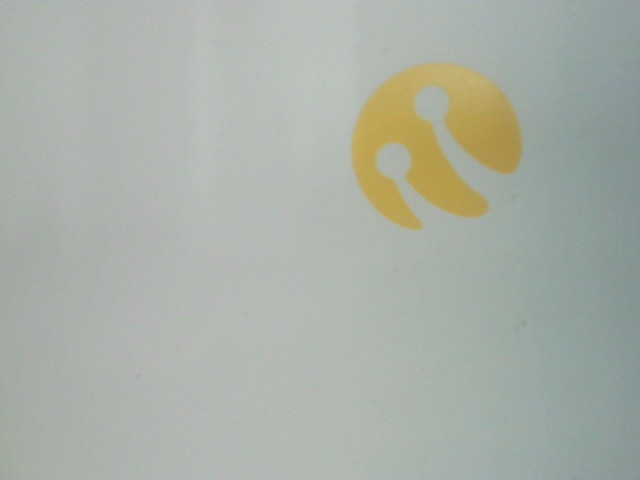AV_H3600Yellow: (338, 52, 531, 235)
